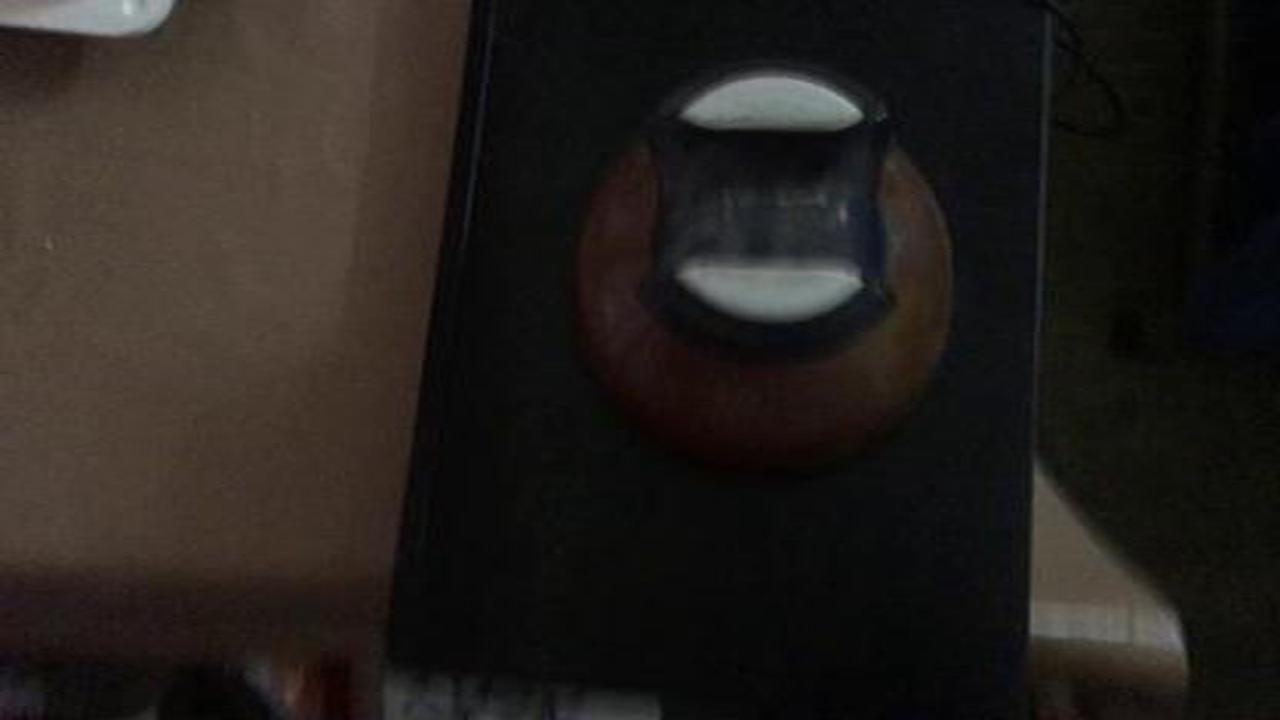insulator_pin: (545, 53, 979, 490)
